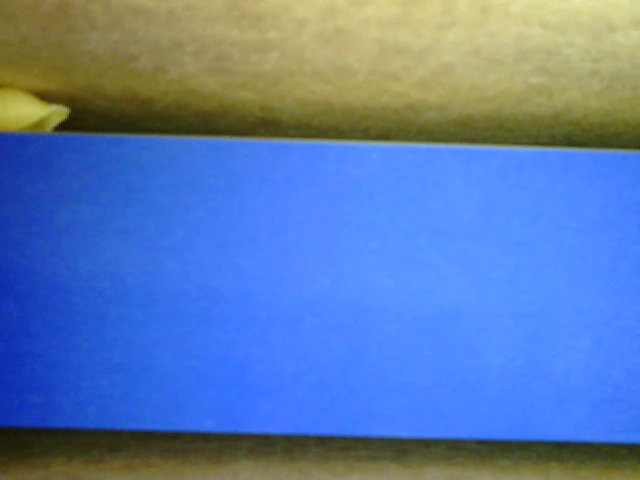shell: (4, 80, 76, 134)
